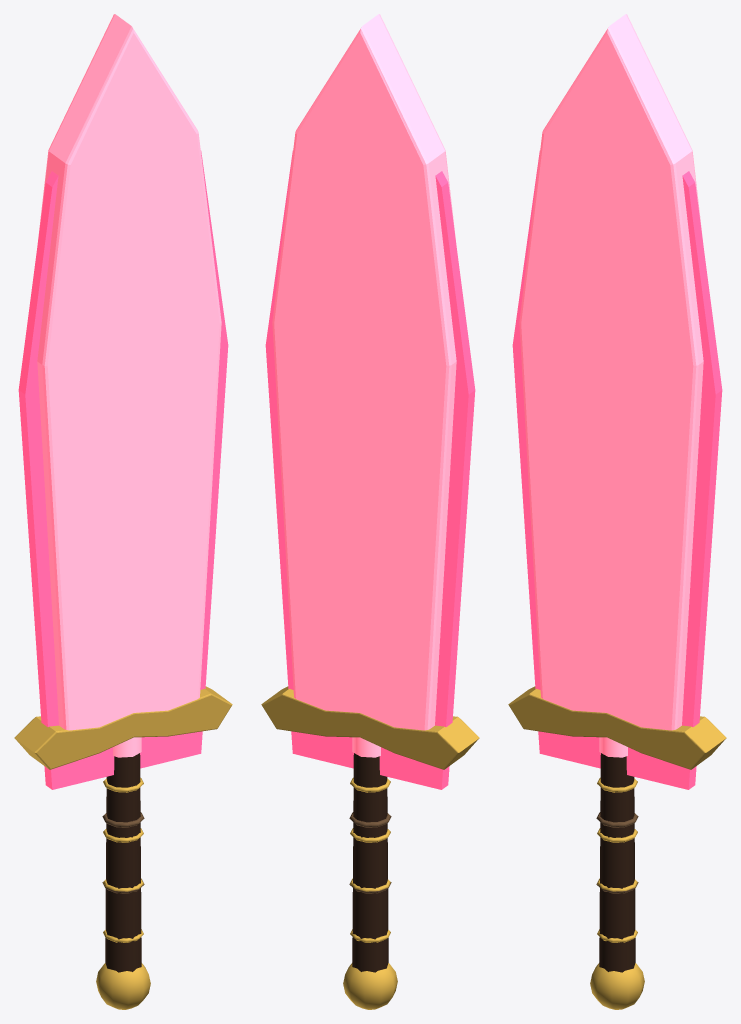
File: greatsword_f0_f04a7ac9.glb
3 renders of one model, left to right at view 1: azimuth 30°, elevation 25°; view 2: azimuth 150°, elevation 25°; view 3: azimuth 330°, elevation 25°, orthographic.
Parts seen in each view (by area): view 1: m4_ow80_, m0_gm130_, m5_ow80_, m2_ow80_; view 2: m4_ow80_, m0_gm130_, m5_ow80_, m2_ow80_; view 3: m4_ow80_, m0_gm130_, m5_ow80_, m2_ow80_.
Part boxes in pixels (bbox=[...]): m4_ow80_: bbox=[37, 14, 221, 757]; m0_gm130_: bbox=[18, 151, 228, 789]; m5_ow80_: bbox=[14, 686, 232, 1009]; m2_ow80_: bbox=[105, 753, 141, 972]; m4_ow80_: bbox=[272, 14, 456, 757]; m0_gm130_: bbox=[265, 151, 475, 789]; m5_ow80_: bbox=[261, 686, 479, 1009]; m2_ow80_: bbox=[352, 753, 388, 972]; m4_ow80_: bbox=[519, 14, 703, 757]; m0_gm130_: bbox=[512, 151, 722, 789]; m5_ow80_: bbox=[508, 686, 726, 1009]; m2_ow80_: bbox=[599, 753, 635, 972].
Size of the model in its own units: 0.708 by 3.29 by 0.1583.
